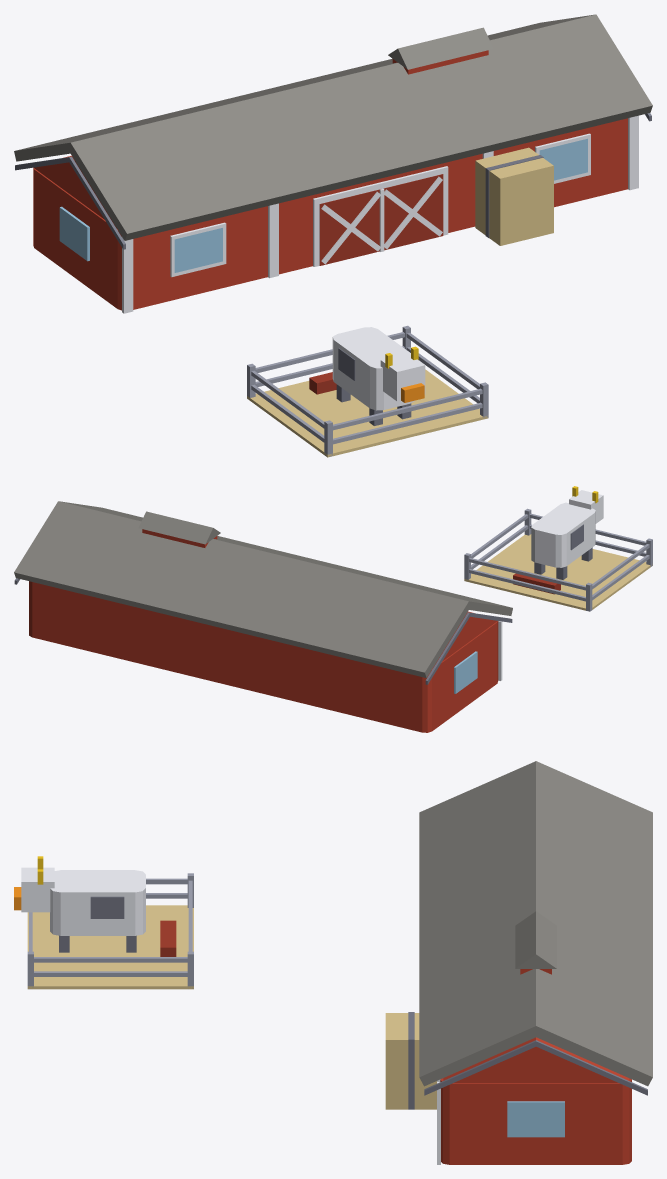
Rendered from livestock-farm-2x2-t1-tone-a.glb.
The picture shows the model from 3 angles, top to bottom: view 1: azimuth 30°, elevation 25°; view 2: azimuth 150°, elevation 25°; view 3: azimuth 270°, elevation 25°; orthographic projection. The views are drawn at different scales.
Parts seen in each view (by area): view 1: livestock-farm-2x2-t1-tone-a; view 2: livestock-farm-2x2-t1-tone-a; view 3: livestock-farm-2x2-t1-tone-a.
Boxes of the visible parts, x1=… form: livestock-farm-2x2-t1-tone-a: x1=14, y1=14, x2=652, y2=457; livestock-farm-2x2-t1-tone-a: x1=14, y1=486, x2=652, y2=732; livestock-farm-2x2-t1-tone-a: x1=14, y1=761, x2=652, y2=1164.
Bounding box in the file's own units: 1.97 × 0.54 × 2.
1 material, 1 textured.
